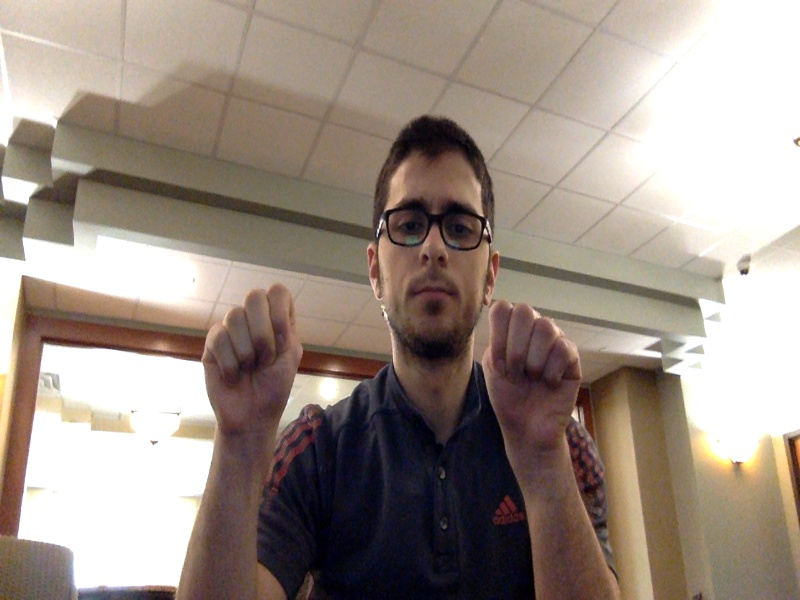0-hand: (483, 300, 582, 451), (202, 286, 303, 428)
